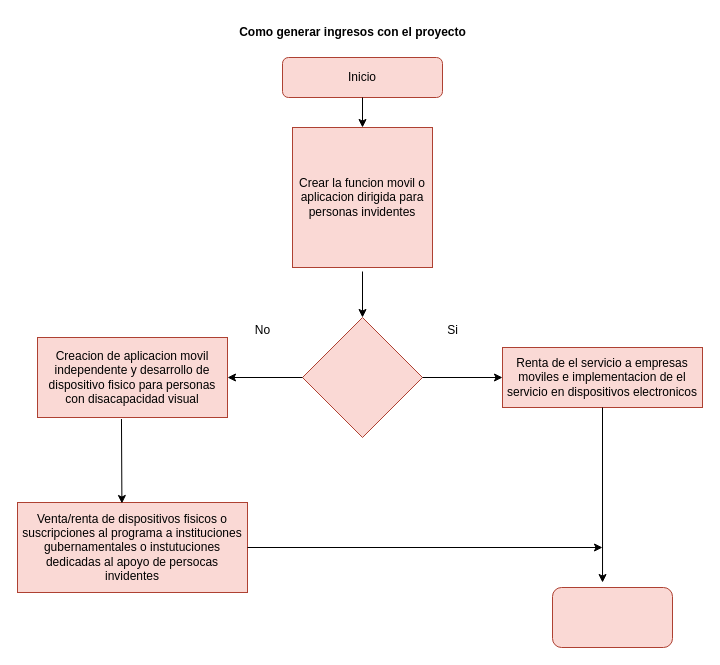
The diagram is 720 pixels wide and 665 high, and some of its shapes have lost their labels. The centre of each missing label's shape, as x and y in pixels:
Alianza con empresas moviles/dispositivos electronicos conocidas: pixel 362 377
Fin: pixel 612 617
